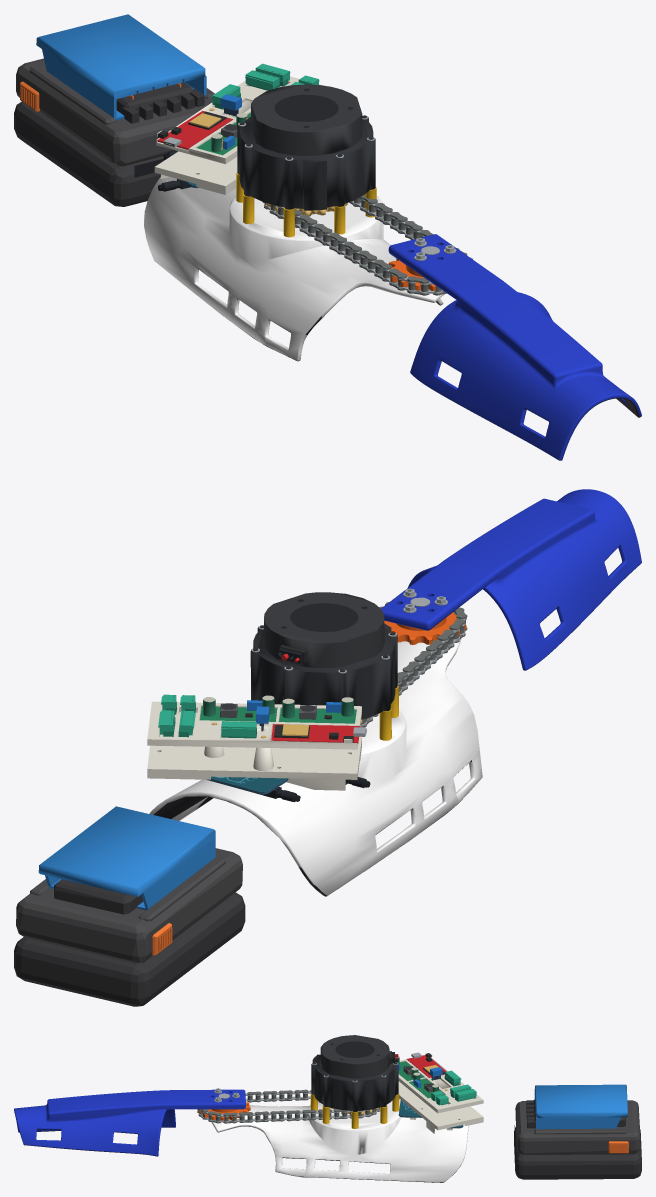
The model's file is brachiflex.glb.
3 renders of one model, top to bottom at view 1: azimuth 30°, elevation 25°; view 2: azimuth 150°, elevation 25°; view 3: azimuth 270°, elevation 25°, orthographic. The views are drawn at different scales.
Parts seen in each view (by area): view 1: FixedAssembly, MovingForearm; view 2: FixedAssembly, MovingForearm; view 3: FixedAssembly, MovingForearm.
Boxes of the visible parts, left/top/right/bottom form: FixedAssembly: left=14, top=14, right=472, bottom=361; MovingForearm: left=388, top=234, right=641, bottom=460; FixedAssembly: left=14, top=588, right=482, bottom=1006; MovingForearm: left=381, top=489, right=641, bottom=670; FixedAssembly: left=197, top=1035, right=641, bottom=1182; MovingForearm: left=14, top=1089, right=250, bottom=1156.
Bounding box in the file's own units: 135 × 129 × 634.
